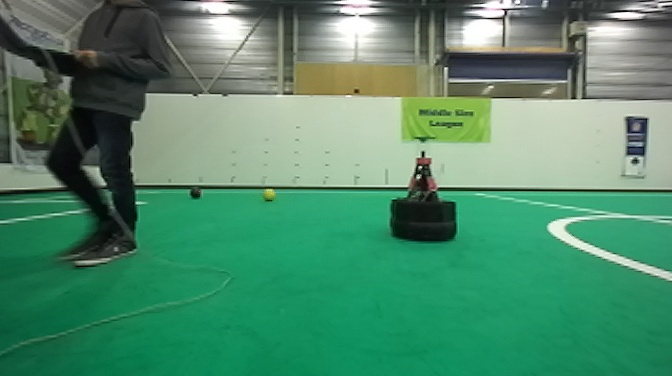ball: (258, 186, 277, 204), (188, 183, 205, 201)
human: (1, 1, 174, 273)
robot: (387, 133, 462, 248)
